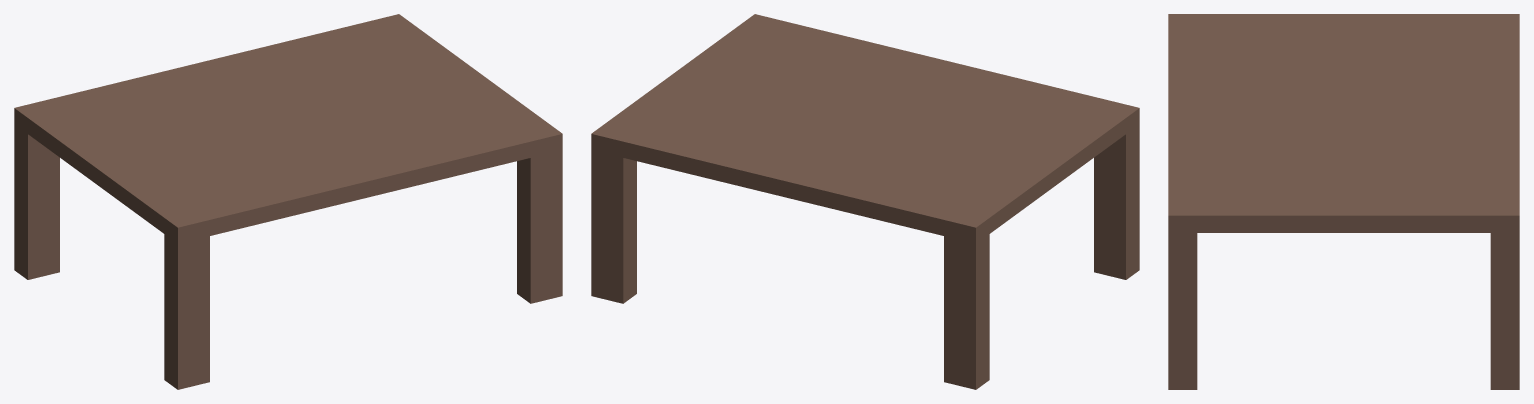
Rendered from tabel.fbx.
The picture shows the model from 3 angles, left to right: view 1: azimuth 30°, elevation 25°; view 2: azimuth 150°, elevation 25°; view 3: azimuth 270°, elevation 25°; orthographic projection. The views are drawn at different scales.
Visible parts, largest first — view 1: Plane; view 2: Plane; view 3: Plane.
Boxes of the visible parts, x1,y1,x2,y2 form: Plane: (14, 14, 562, 389); Plane: (591, 14, 1139, 389); Plane: (1168, 14, 1519, 389).
Bounding box in the file's own units: 24.77 × 9.98 × 18.25.
